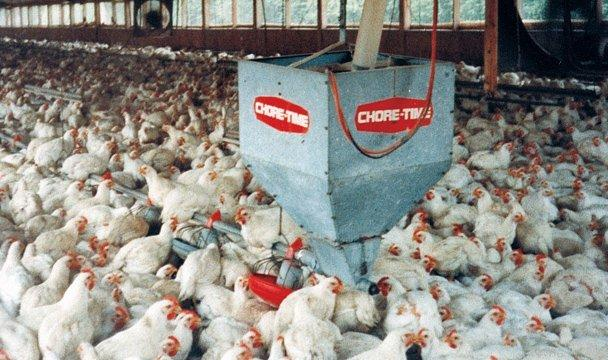chicken: (41, 269, 98, 358), (104, 296, 180, 360), (270, 275, 345, 329), (114, 216, 180, 270), (286, 295, 341, 359), (376, 275, 442, 326), (23, 252, 80, 307), (158, 170, 218, 220), (196, 275, 251, 316), (351, 327, 418, 360), (179, 242, 221, 294), (464, 303, 509, 351), (60, 141, 116, 179), (37, 214, 89, 252), (234, 209, 284, 243), (496, 292, 555, 320), (476, 211, 526, 243), (139, 164, 180, 203), (441, 273, 496, 295), (443, 330, 470, 360), (473, 187, 495, 217)
